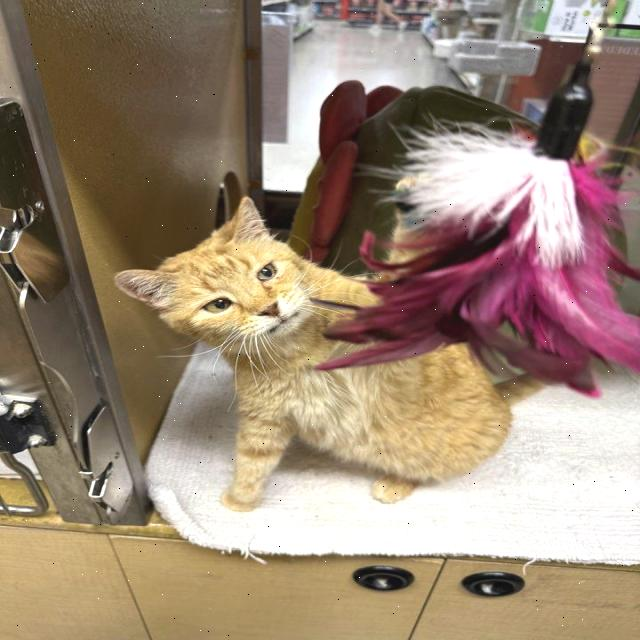american_shorthair_cat: (108, 191, 334, 367)
